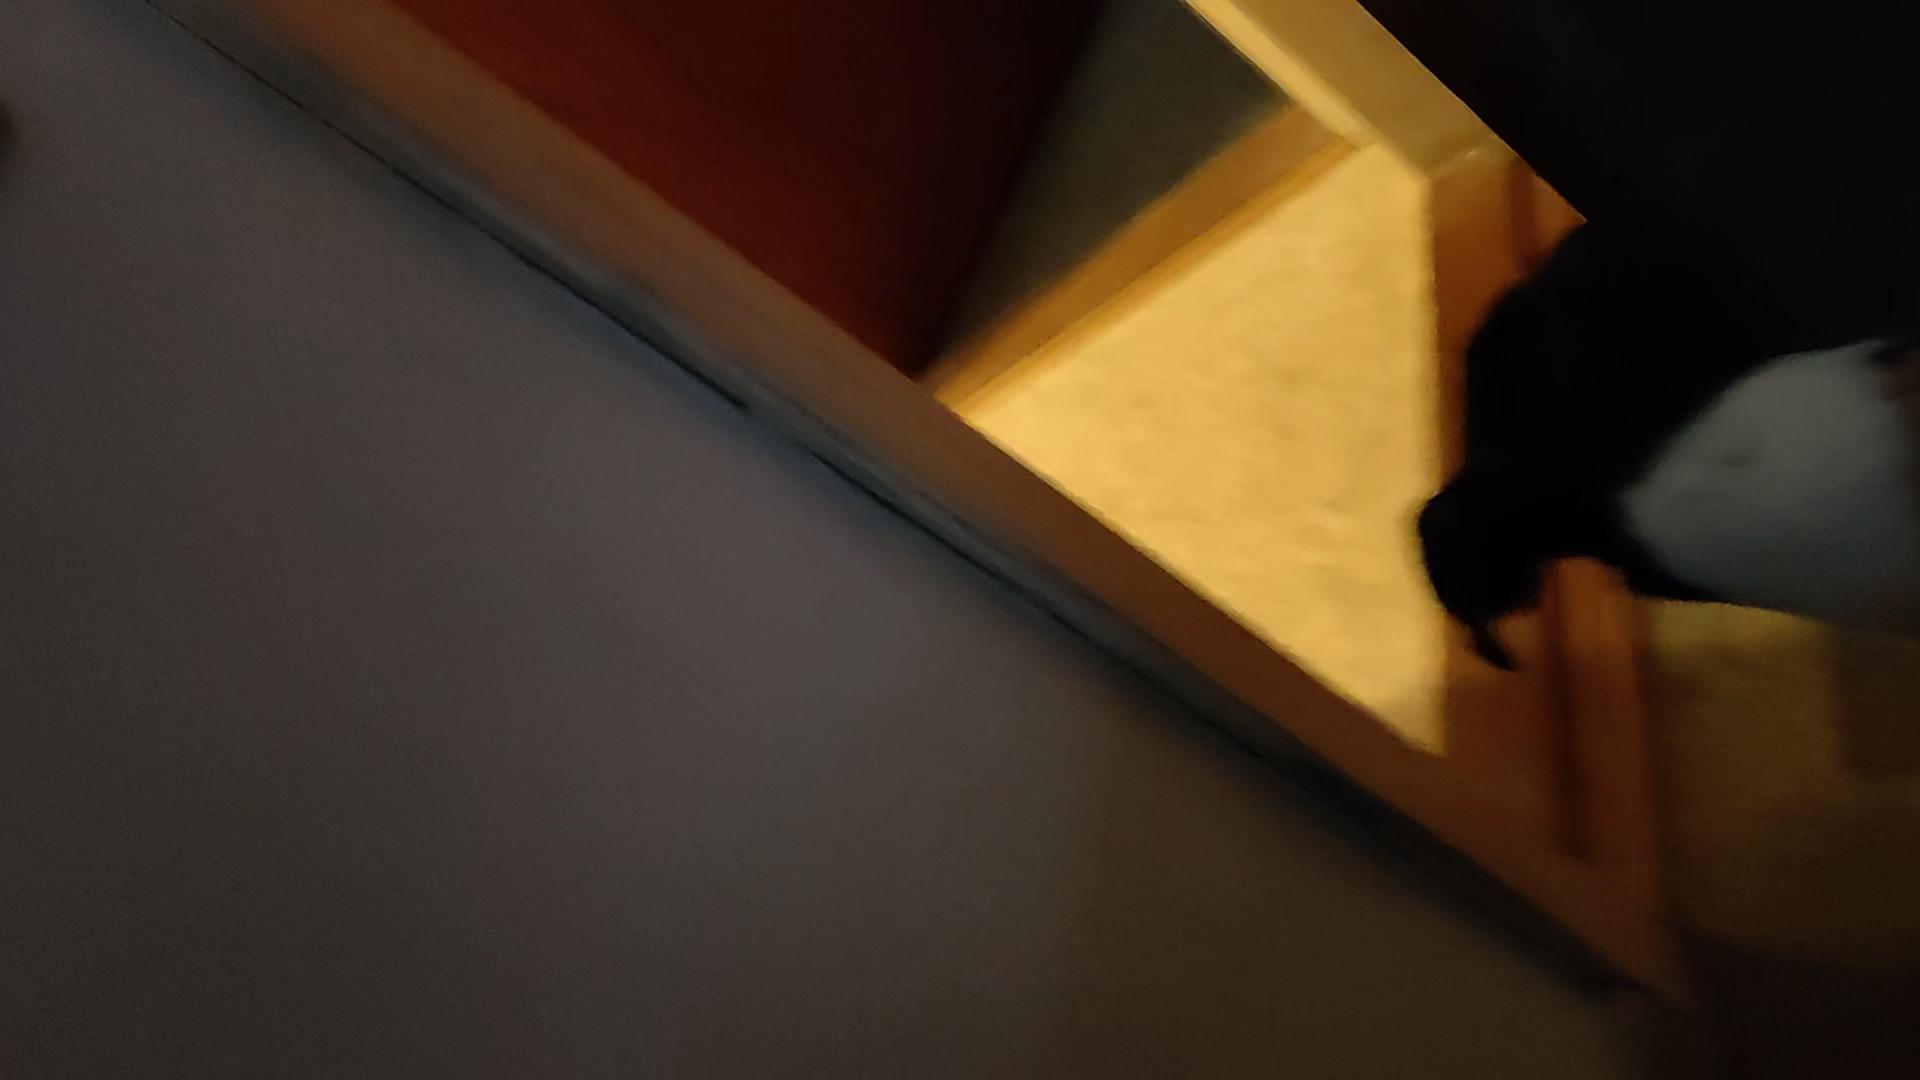Dog: (1394, 189, 1919, 723)
